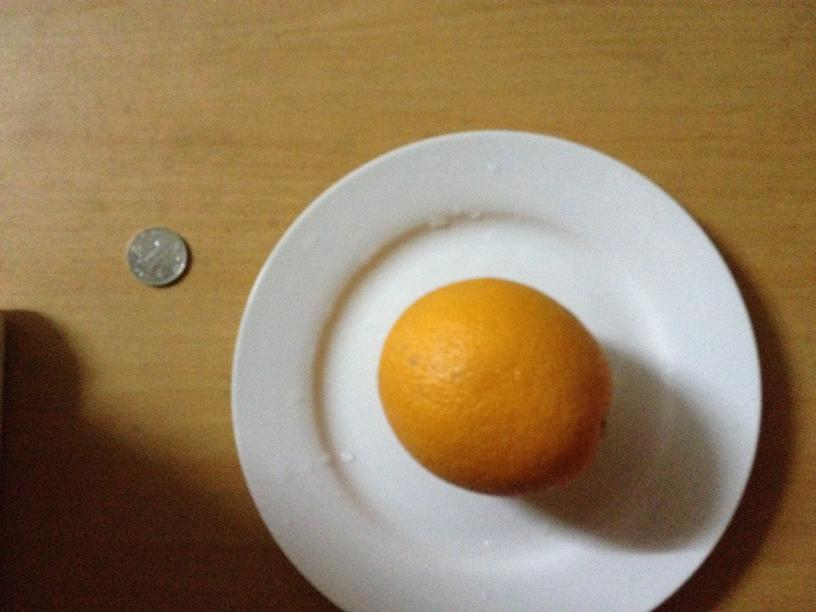coin: (127, 225, 187, 285)
orange: (378, 280, 609, 495)
